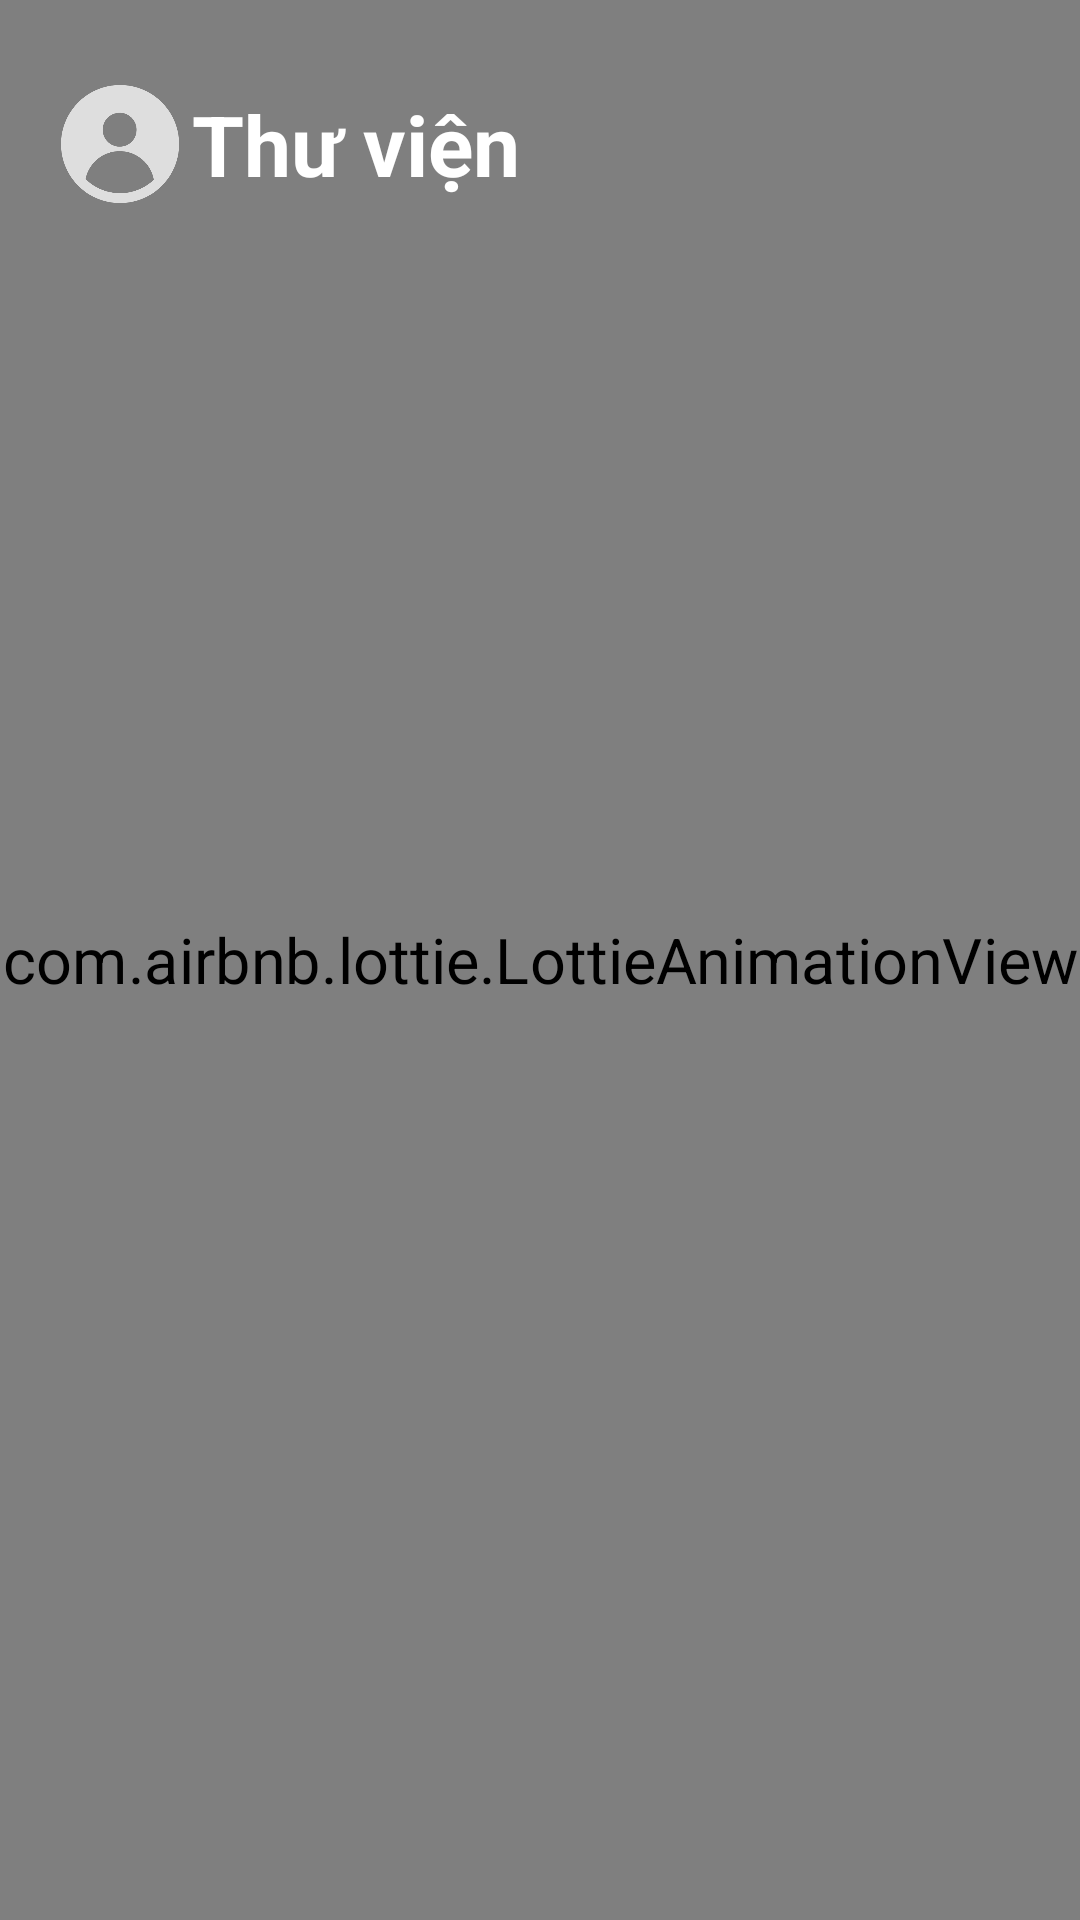

Where to tap for icons on this 1080w x 1920h app screen, as [x,y]:
Avatar: [120,144]
